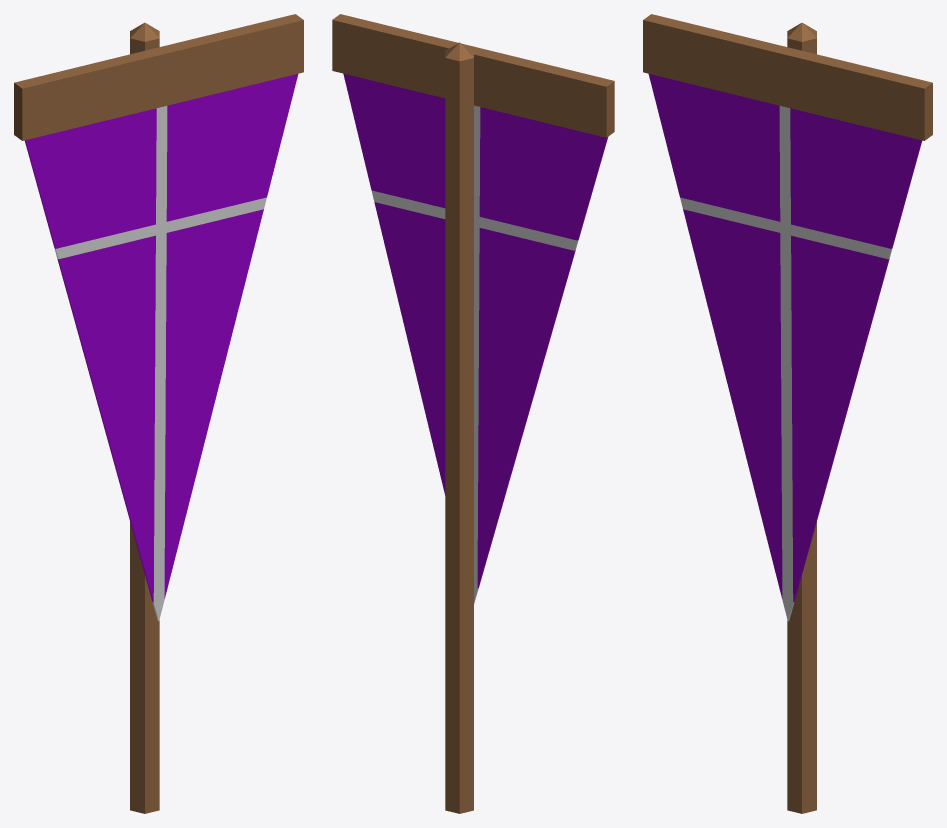
File: Player_flag_violet_2_mat.fbx
The picture shows the model from 3 angles, left to right: view 1: azimuth 30°, elevation 25°; view 2: azimuth 150°, elevation 25°; view 3: azimuth 330°, elevation 25°; orthographic projection. The views are drawn at different scales.
Parts seen in each view (by area): view 1: Player_flag__violet_2_mat; view 2: Player_flag__violet_2_mat; view 3: Player_flag__violet_2_mat.
Part boxes in pixels (x1,y1,x2,y2): Player_flag__violet_2_mat: (14, 14, 303, 813); Player_flag__violet_2_mat: (332, 14, 614, 813); Player_flag__violet_2_mat: (643, 14, 932, 813).
Size of the model in its own units: 0.7631 by 2.03 by 0.1204.
